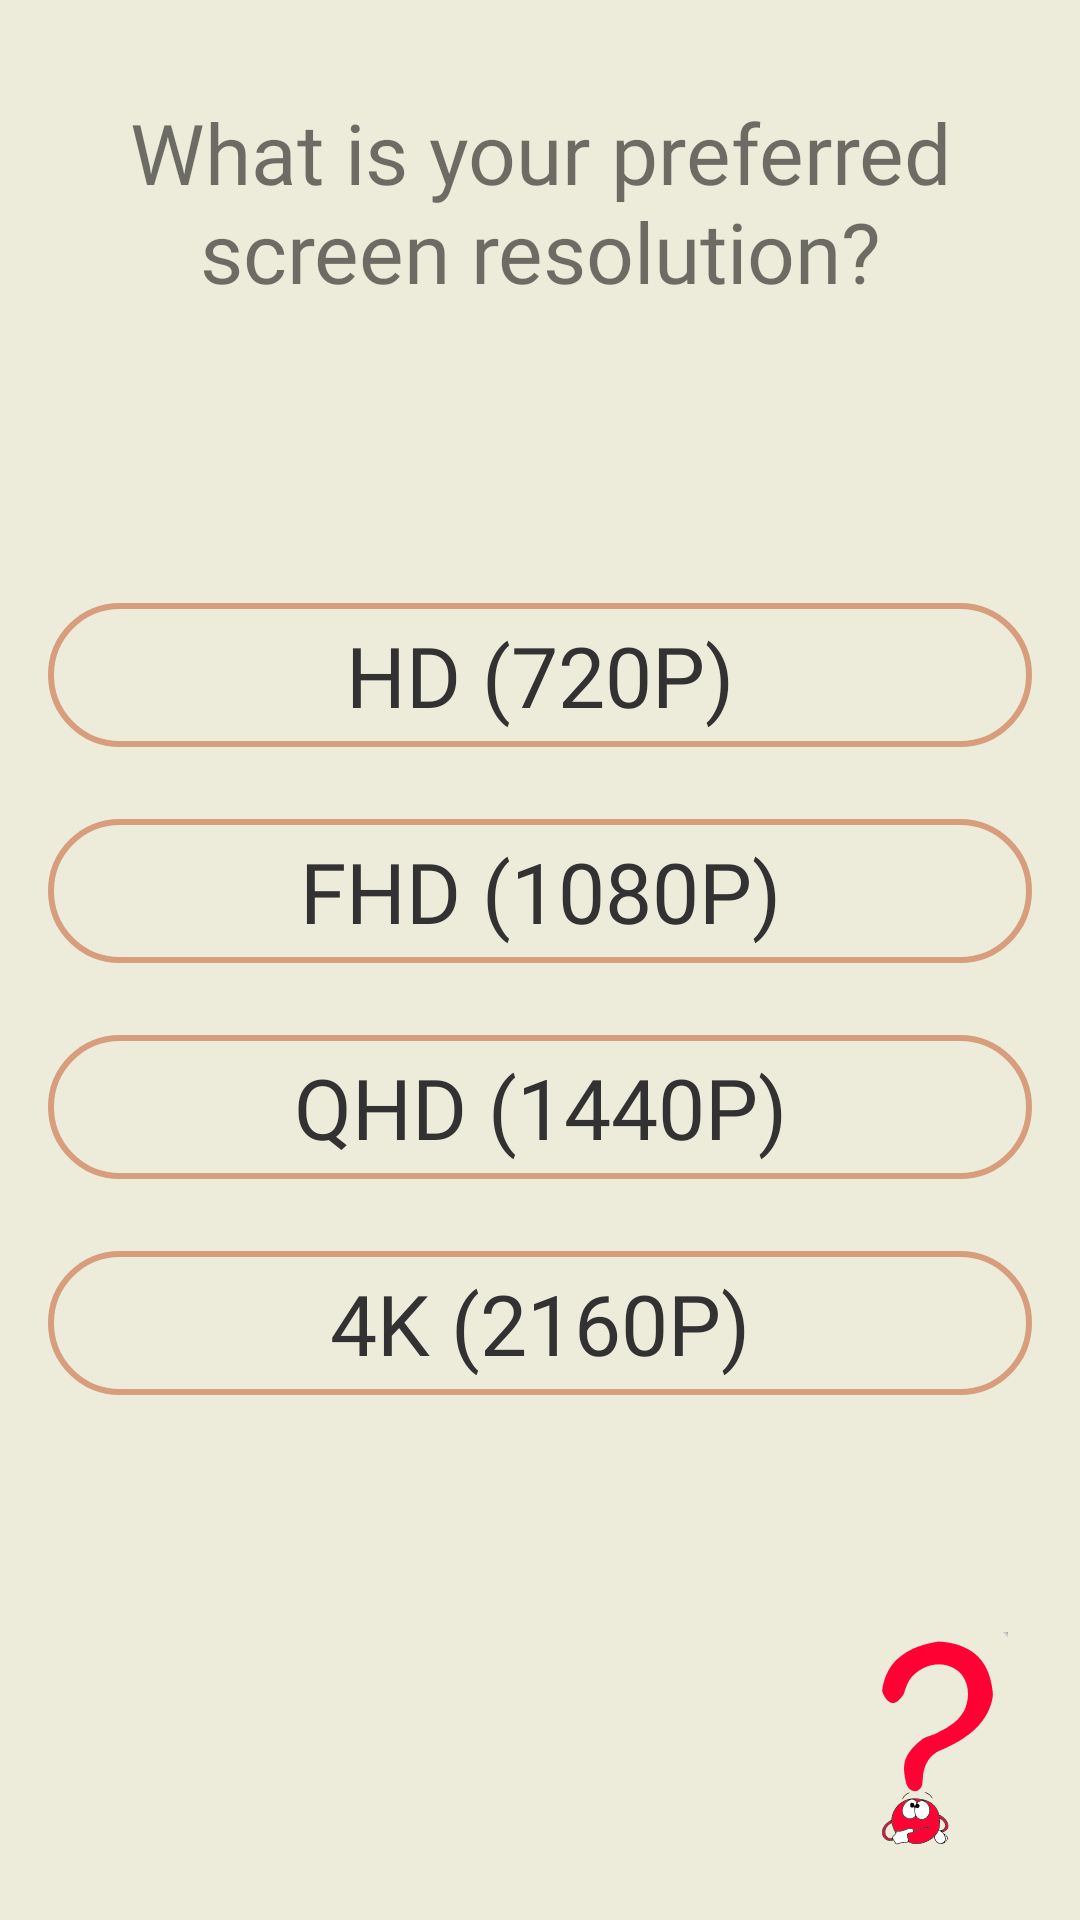

Named icons in this screenshot (1080×1920) and their bounding boxes, box=[x1, y1, x2, y2]:
question mark: box=[882, 1632, 1008, 1845]
